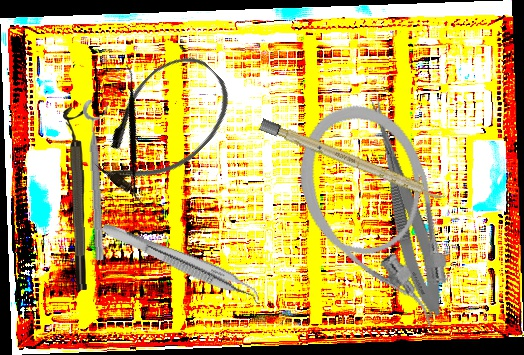Cannula: (281, 89, 471, 351), (77, 41, 247, 210)
Fixation Ring: (82, 99, 118, 261), (62, 106, 90, 291)
Micro Scissor: (355, 93, 452, 321)
Scalpel Handle: (258, 118, 448, 204)
Spatula Surgical: (69, 63, 199, 205)
Tissue Forceps: (96, 220, 266, 307)
